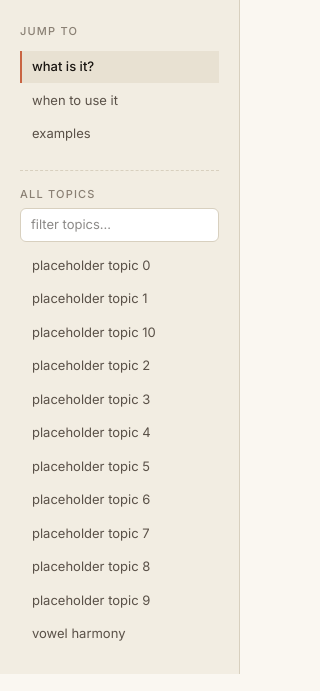
Test case: TheoryToc › other-topics filter (long lists) › shows an empty hint when nothing matches the query
The width and height of the screenshot is (320, 691).
In the search field labelled "filter topics…": {"x": 120, "y": 225} x1=20 y1=208 x2=219 y2=242, type "zzz-no-match"
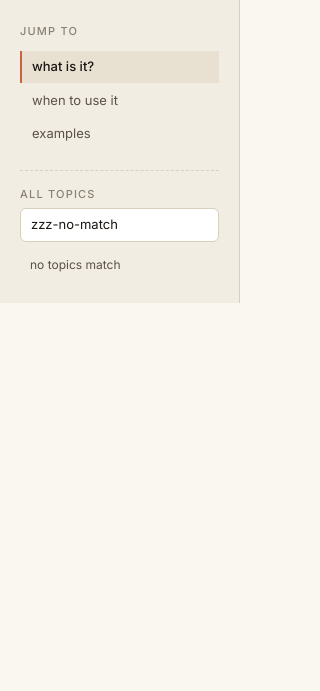
Now the text "no topics match" is shown, box x1=30 y1=257 x2=120 y2=272
Now the button "vowel harmony" is gone
